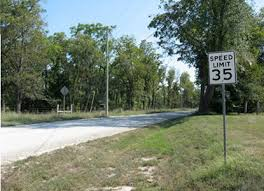speedLimit35: (206, 50, 239, 86)
